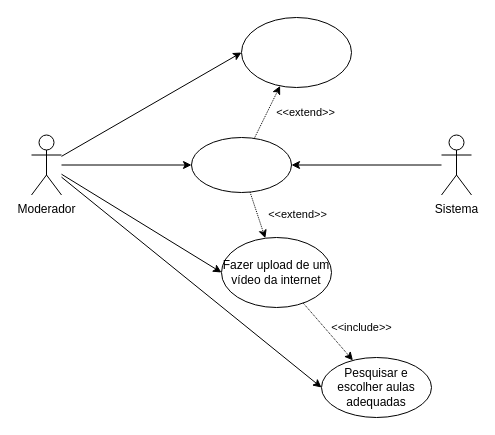
This 495x435 diagram has some shape labels left out. The centre of each missing label's shape, as x and y in pixels:
"Disponibilizar aula gravada" goes at (241,164).
"Gravar aula realizada ao vivo" goes at (296,52).
